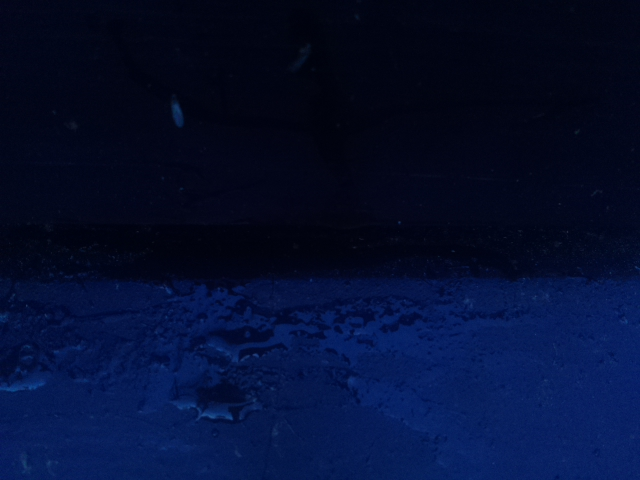ant: (5, 338, 46, 391)
